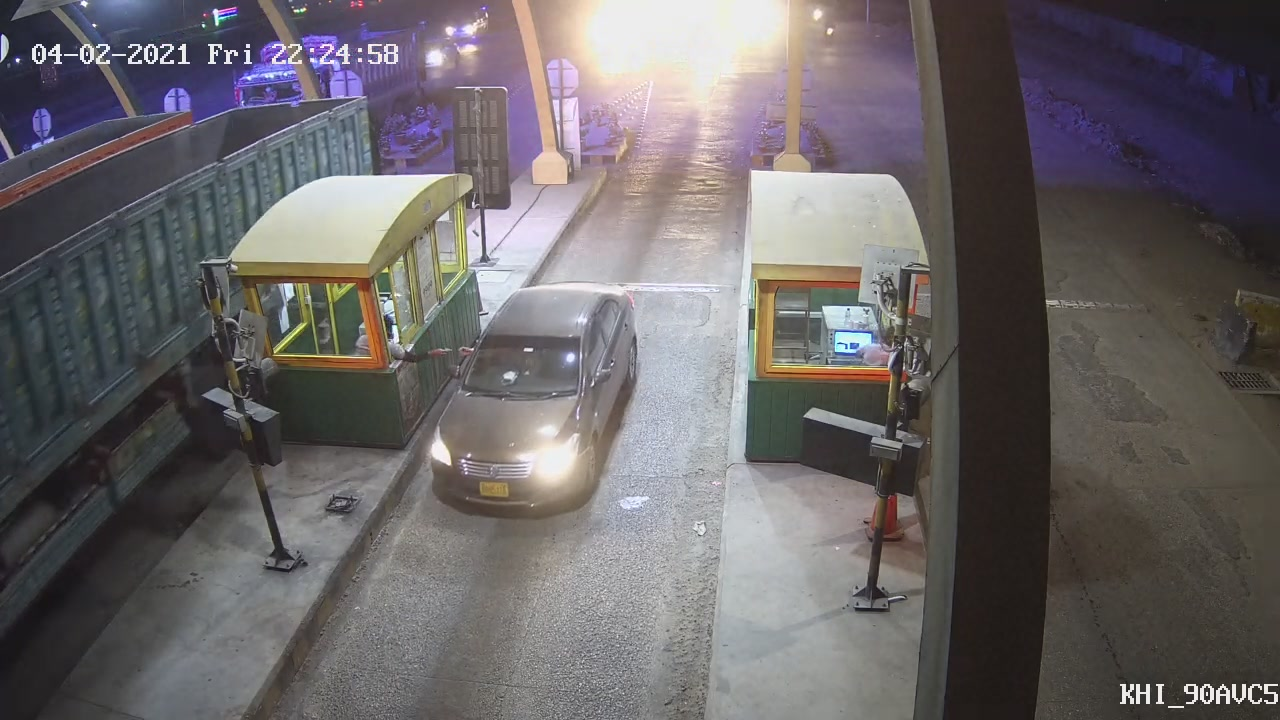F1: (420, 276, 648, 522)
